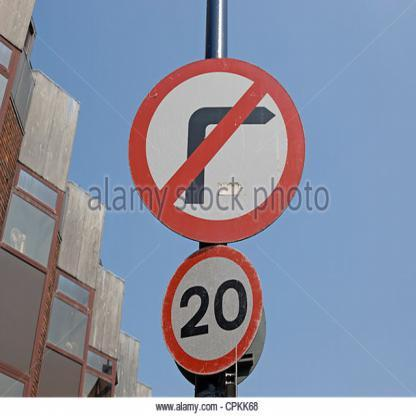Speed Limit 20: (163, 245, 262, 376)
